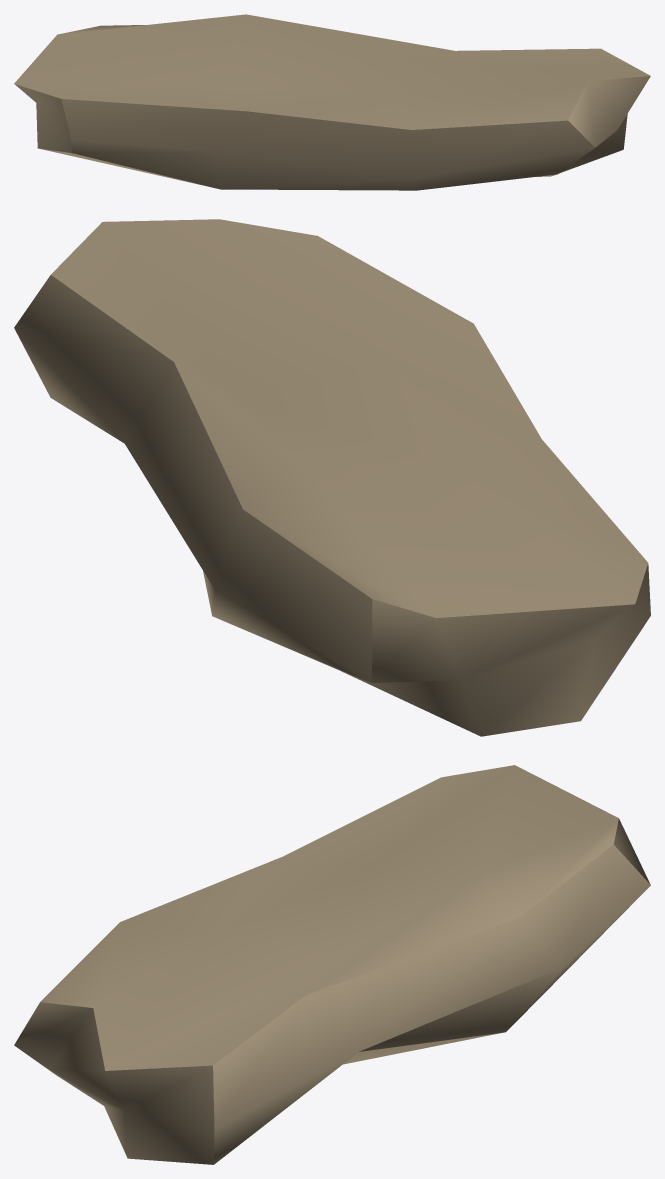
The model's file is rocks_slab_med.fbx.
The picture shows the model from 3 angles, top to bottom: view 1: azimuth 30°, elevation 25°; view 2: azimuth 150°, elevation 25°; view 3: azimuth 270°, elevation 25°; orthographic projection. The views are drawn at different scales.
Parts seen in each view (by area): view 1: rocks_slab_med; view 2: rocks_slab_med; view 3: rocks_slab_med.
Part boxes in pixels (x1,y1,x2,y2): rocks_slab_med: (14,14,650,190); rocks_slab_med: (14,219,650,736); rocks_slab_med: (14,765,650,1164).
Size of the model in its own units: 78.64 by 16.1 by 66.34.
